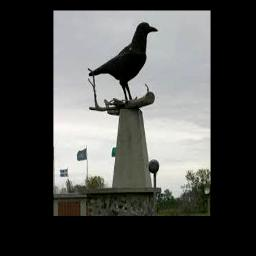Crow: (88, 22, 158, 105)
